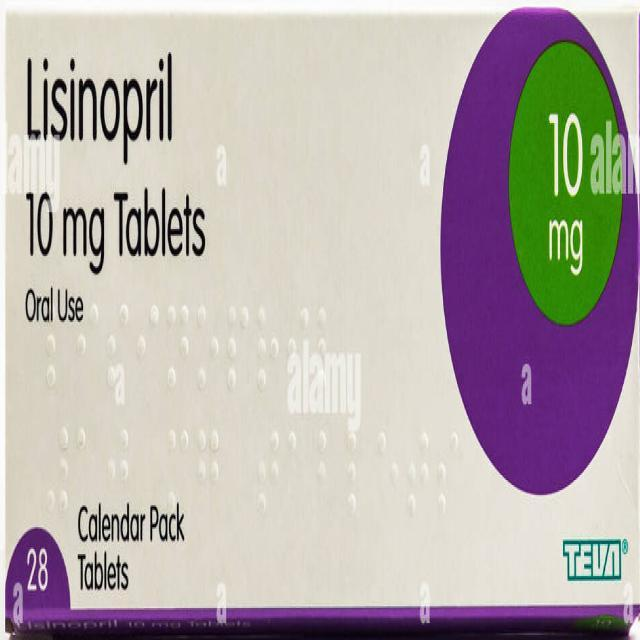drug-name: (21, 39, 179, 165)
